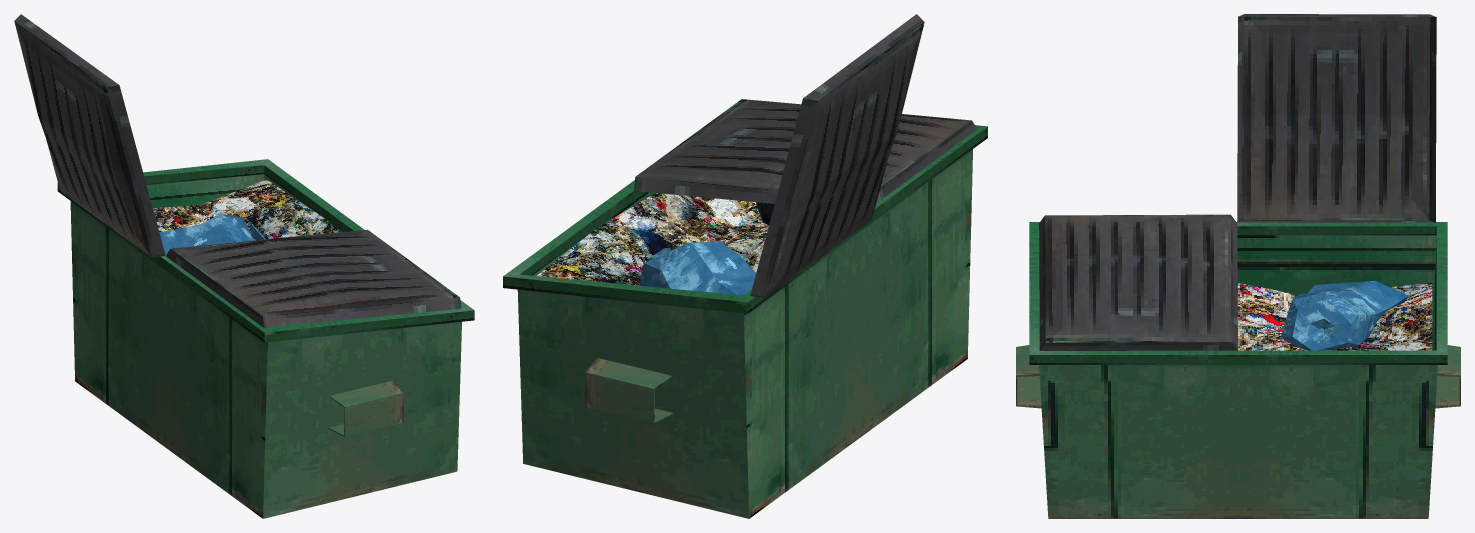
The model's file is dumpster_diagonal_full_open.glb.
3 renders of one model, left to right at view 1: azimuth 30°, elevation 25°; view 2: azimuth 150°, elevation 25°; view 3: azimuth 270°, elevation 25°, orthographic. The views are drawn at different scales.
Visible parts, largest first — view 1: dumpster_diagonal_full_open; view 2: dumpster_diagonal_full_open; view 3: dumpster_diagonal_full_open.
Boxes of the visible parts, x1,y1,x2,y2 form: dumpster_diagonal_full_open: [14, 14, 474, 518]; dumpster_diagonal_full_open: [503, 14, 987, 518]; dumpster_diagonal_full_open: [1016, 14, 1460, 518].
Size of the model in its own units: 2.53 by 3.48 by 3.67.
3 materials, 3 textured.
